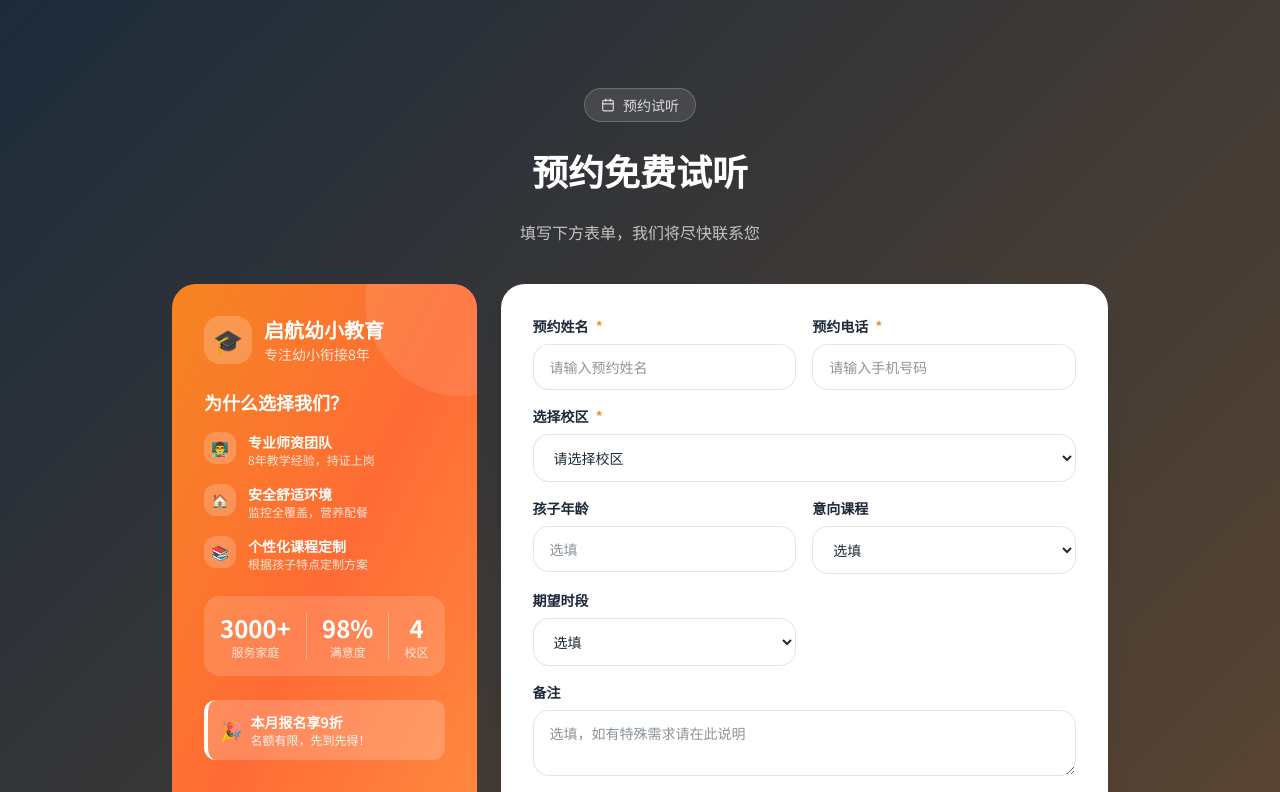
Scenario: ContactForm 组件 › 手机号格式错误时显示错误
This screenshot has width=1280, height=792.
Type "小明" into the field labelled "预约姓名 *". click: (664, 367)
box: [533,344,796,390]
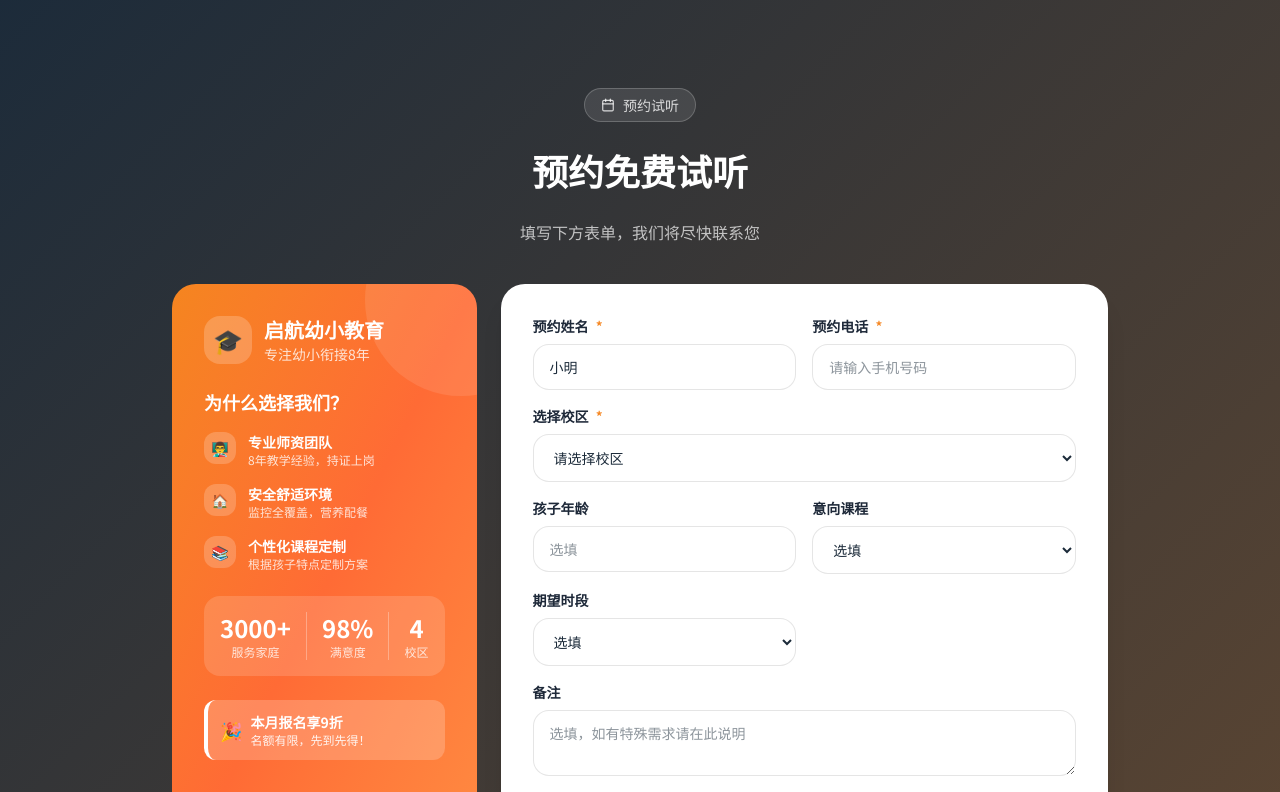
Type "123" into the field labelled "预约电话 *". click: (944, 367)
box: [812,344,1076,390]
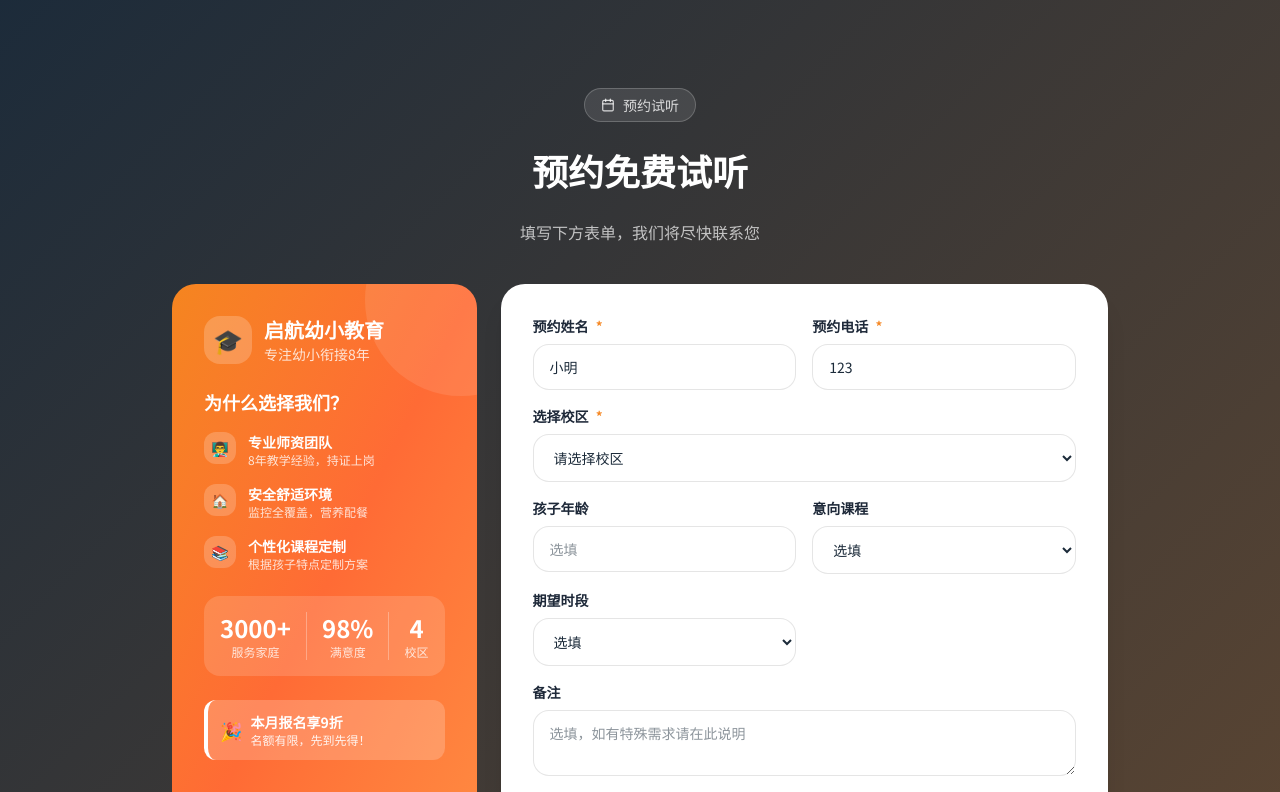
Select "朝阳校区" in the dropdown labelled "选择校区 *". click: (804, 458)
box: [533,434,1076,482]
(page scrolled)
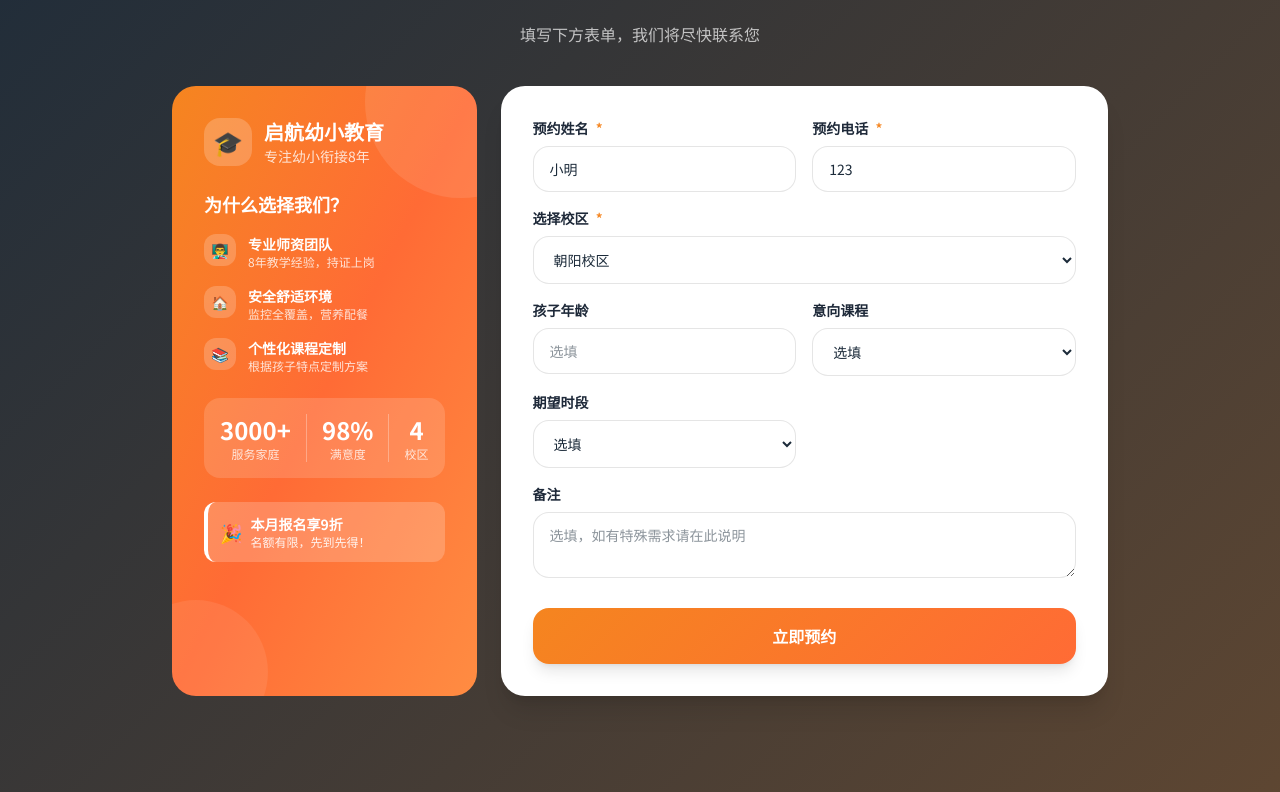
Click the button "立即预约". click: (804, 636)
box: [533,608,1076,664]
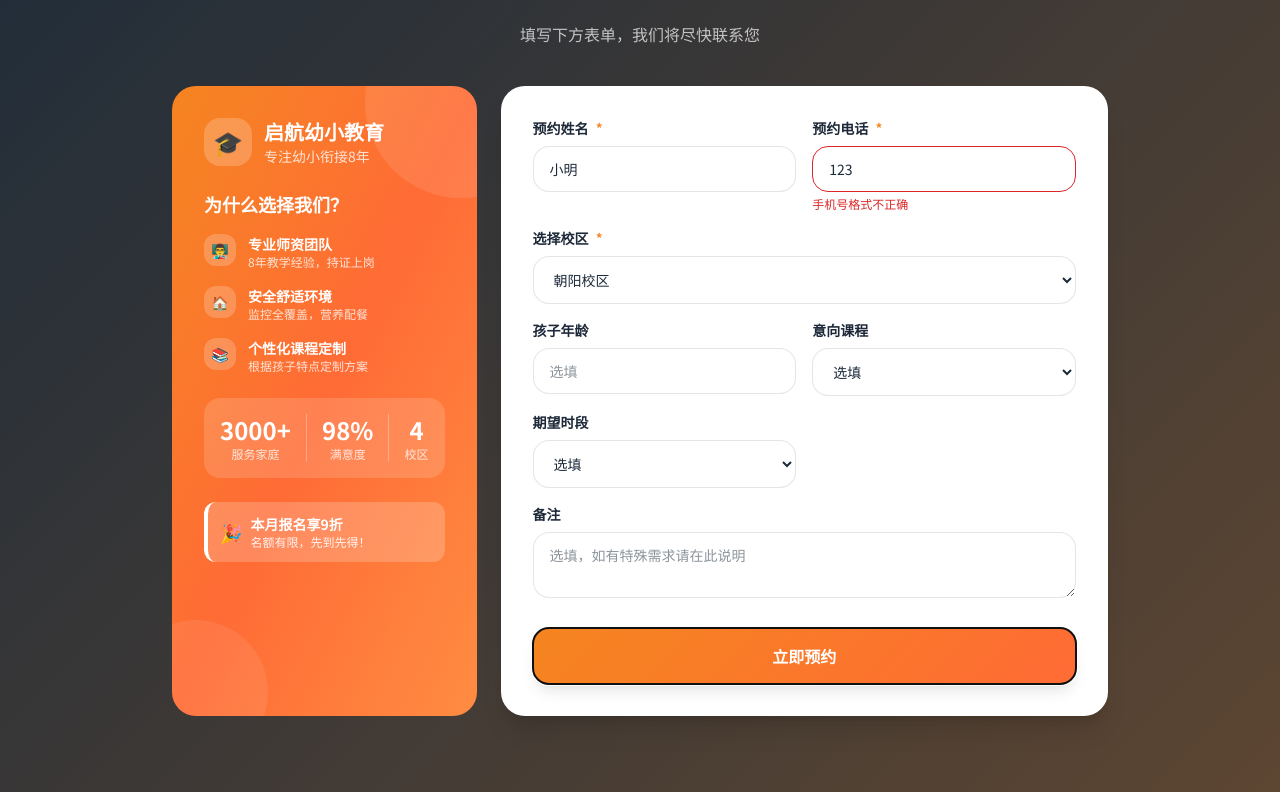
Result: the text "手机号格式不正确" is shown at [812,195,908,212]
